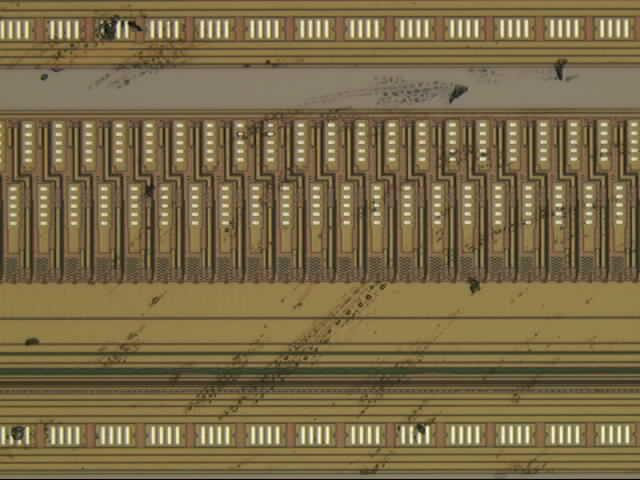PO CONTAMINATION: (1, 7, 640, 480)
